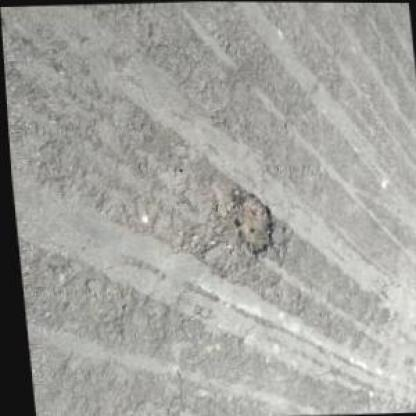pothole: (228, 187, 274, 258)
